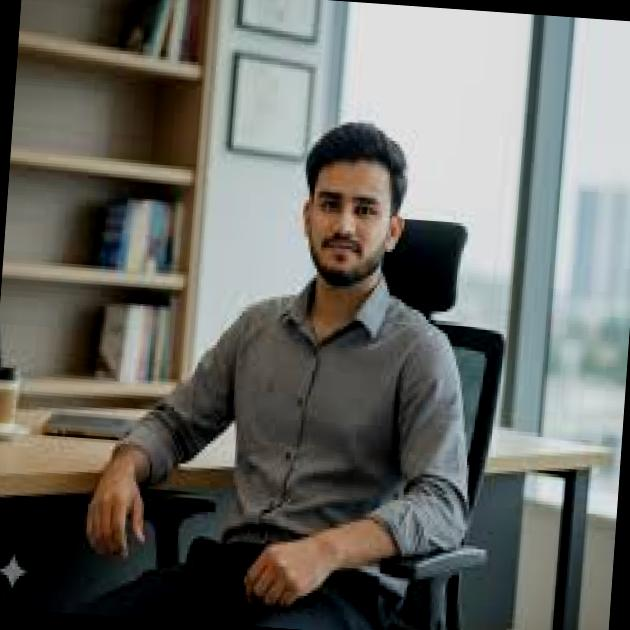there is a person: (97, 99, 522, 630)
